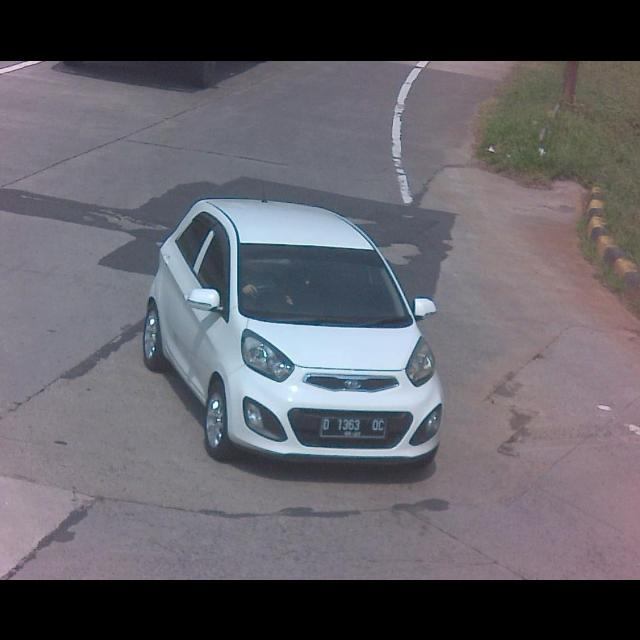plate: (320, 412, 388, 440)
